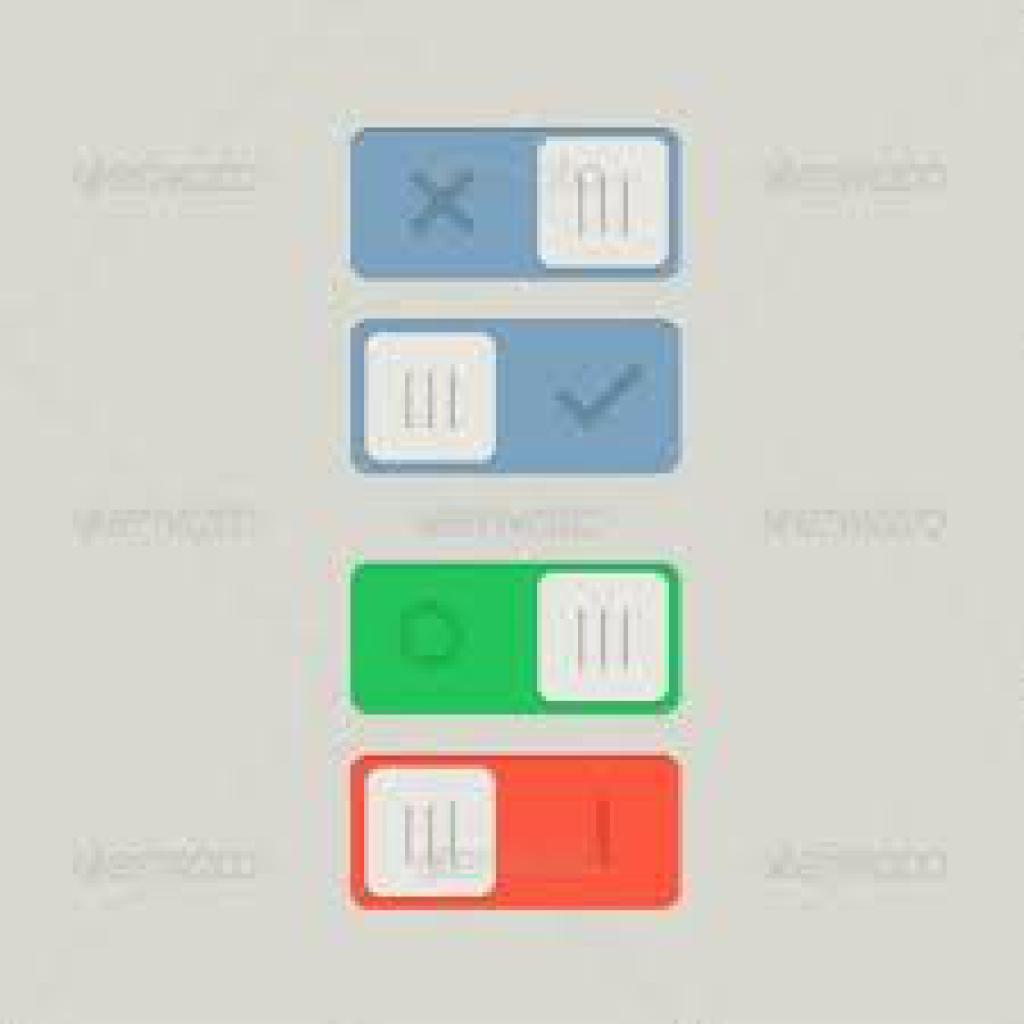switch: (343, 316, 690, 481), (345, 751, 688, 915), (347, 122, 687, 287), (347, 558, 688, 721)
